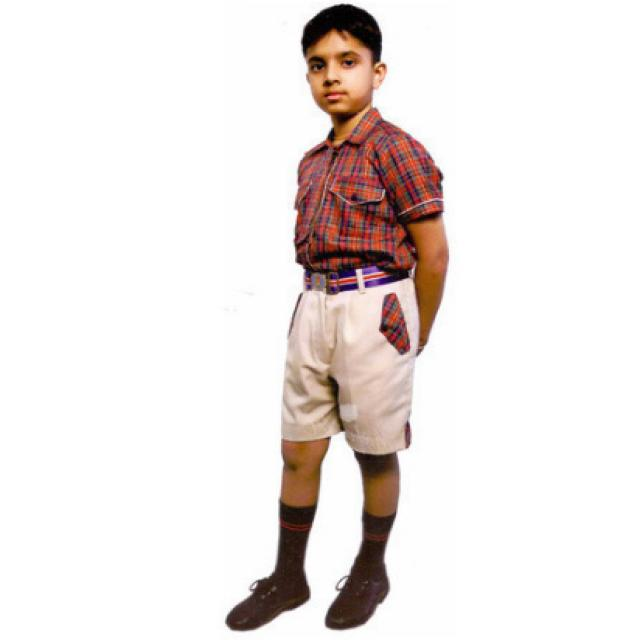child: (216, 1, 464, 638)
